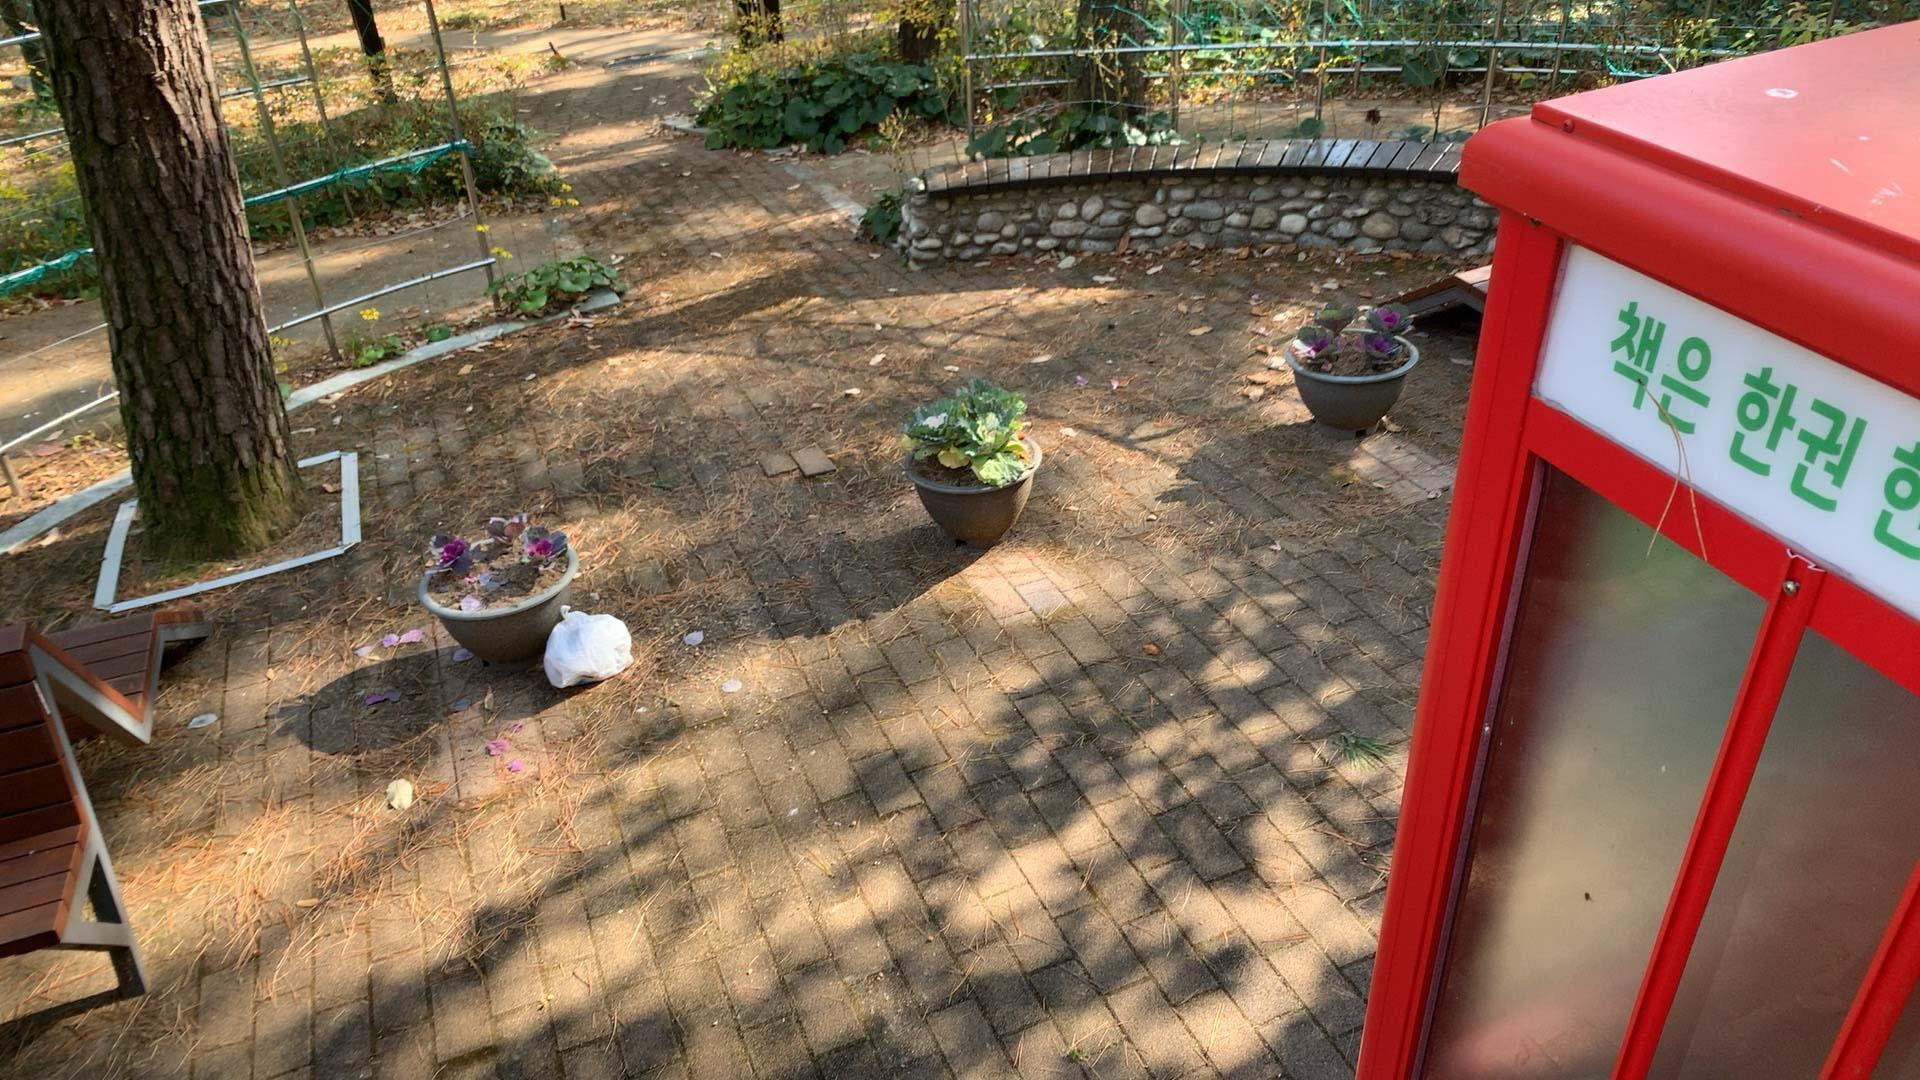white_bag: (531, 600, 642, 696)
